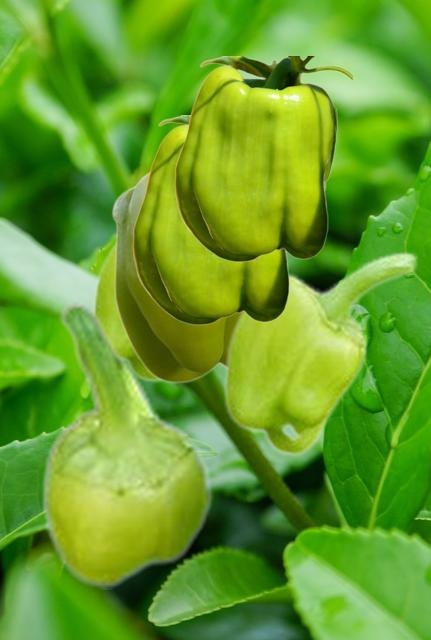bell_pepper: (40, 302, 213, 588), (222, 250, 418, 456), (174, 56, 353, 261), (132, 115, 290, 324), (111, 171, 237, 382), (90, 240, 162, 382)
